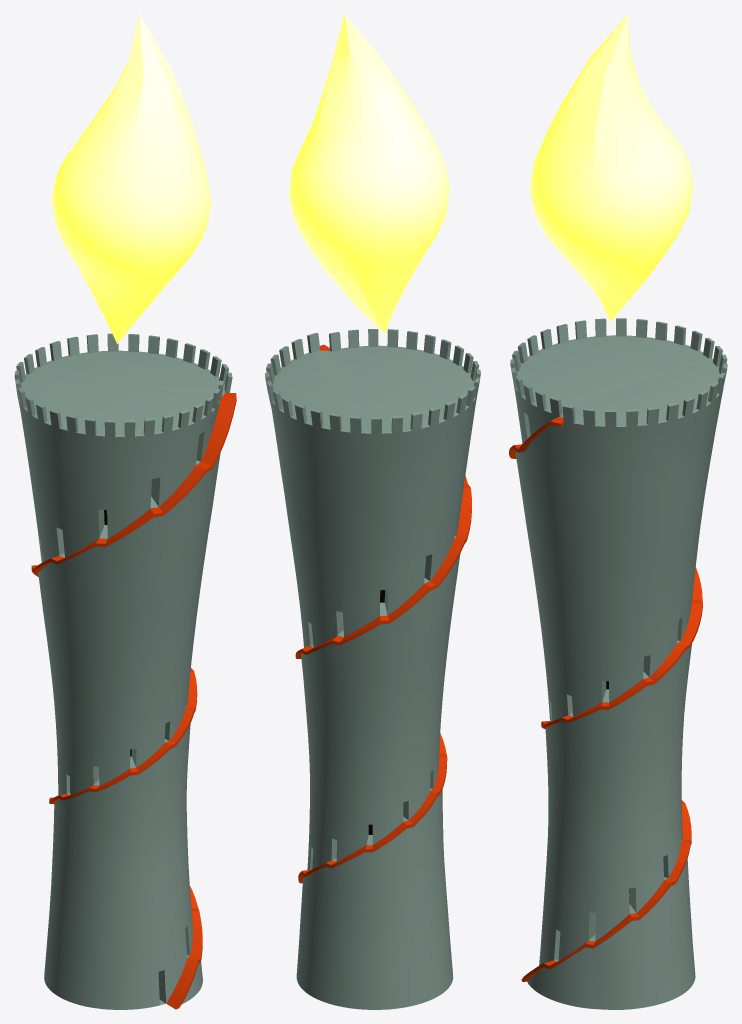
The model's file is Makers_Monument.glb.
The picture shows the model from 3 angles, left to right: view 1: azimuth 30°, elevation 25°; view 2: azimuth 150°, elevation 25°; view 3: azimuth 270°, elevation 25°; orthographic projection. The views are drawn at different scales.
Parts seen in each view (by area): view 1: MakersMonument_LOD0, Flame_LOD0; view 2: MakersMonument_LOD0, Flame_LOD0; view 3: MakersMonument_LOD0, Flame_LOD0.
Boxes of the visible parts, bbox=[...] form: MakersMonument_LOD0: bbox=[14, 333, 236, 1009]; Flame_LOD0: bbox=[52, 14, 210, 343]; MakersMonument_LOD0: bbox=[265, 329, 480, 1009]; Flame_LOD0: bbox=[289, 14, 449, 333]; MakersMonument_LOD0: bbox=[509, 318, 727, 1009]; Flame_LOD0: bbox=[530, 14, 693, 321].
Size of what is drawn, in the model's own units: 0.9612 by 4.69 by 0.9548.
